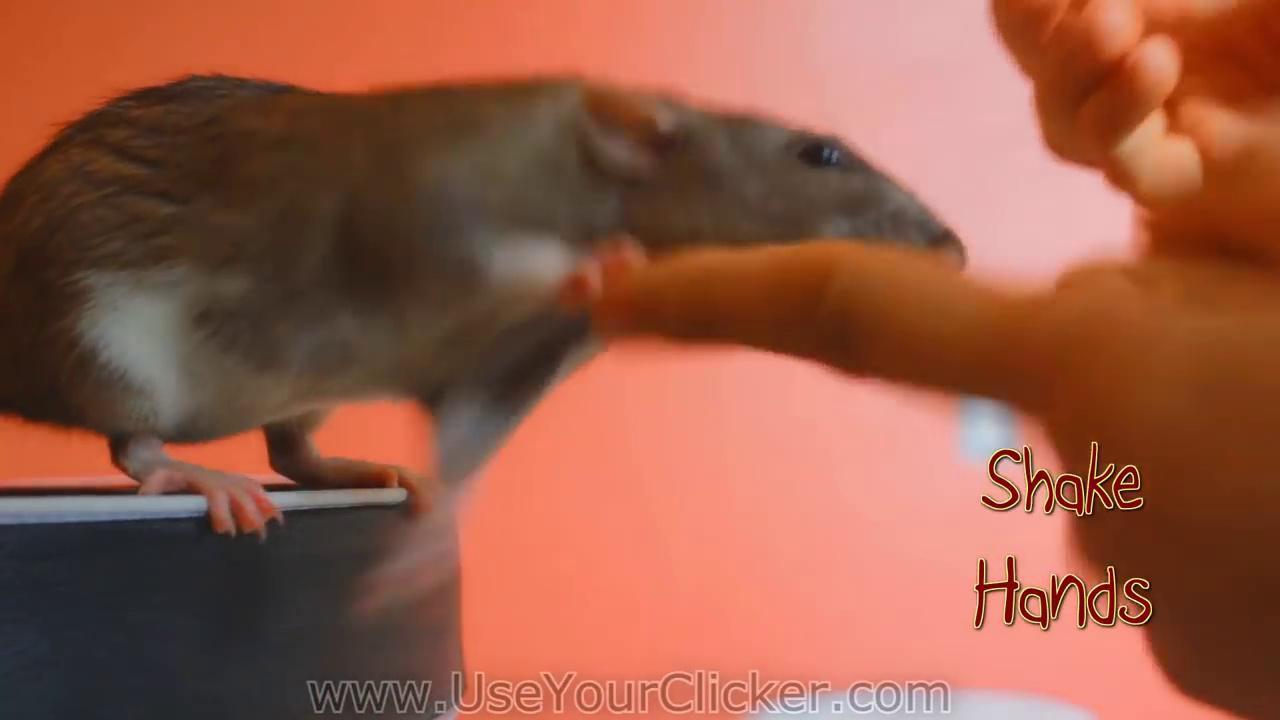rat: (0, 75, 967, 538)
